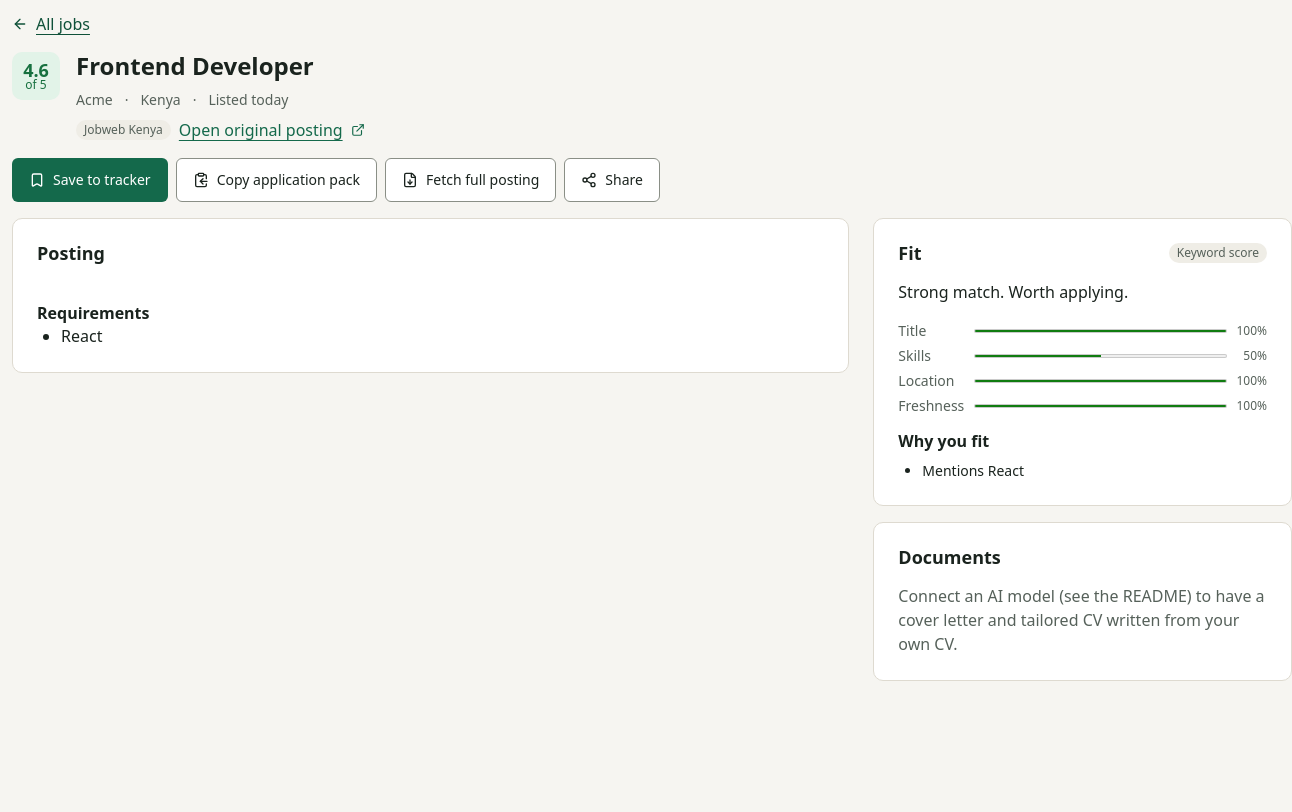
Test: JobDetailPage › saves the job to the tracker
Click the button "Save to tracker" at (90, 180), box [12,158,168,202]
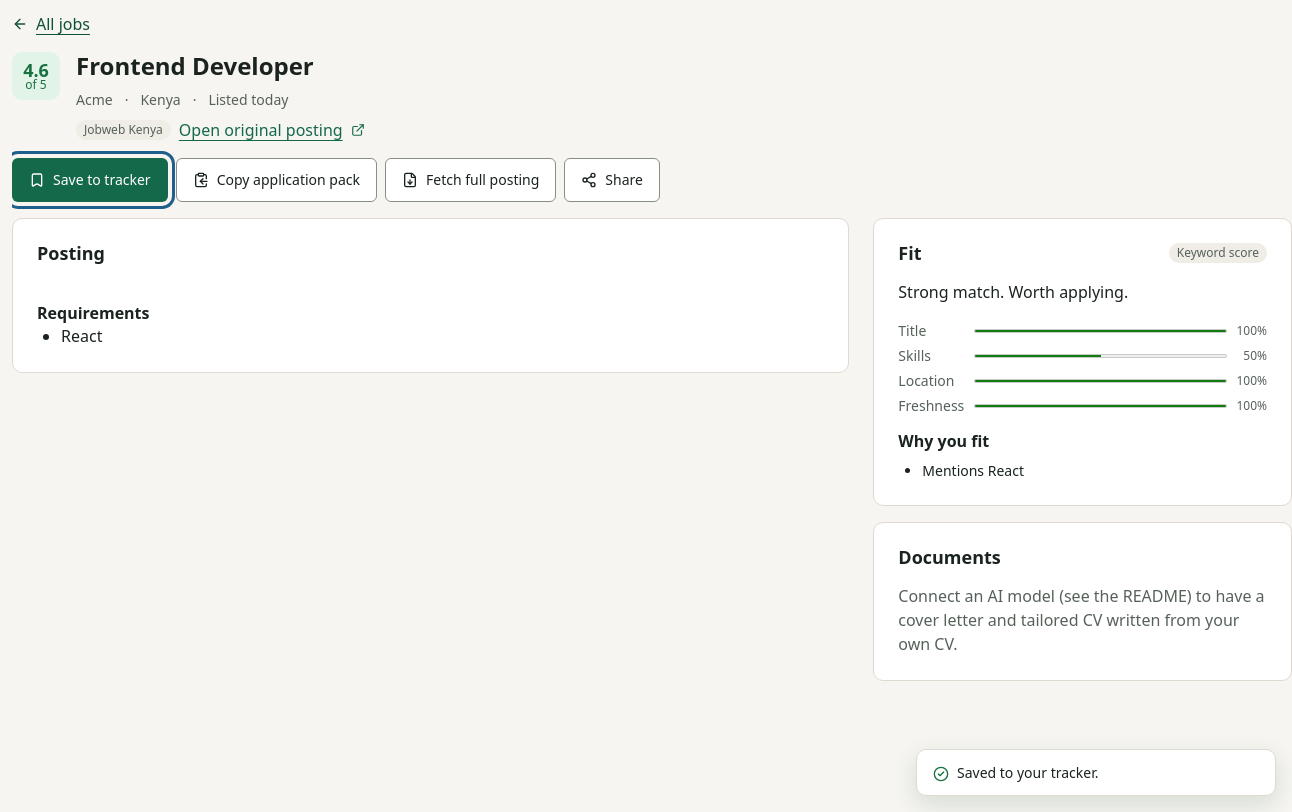
Result: the text "Saved to your tracker." is shown at [957,762,1098,783]
